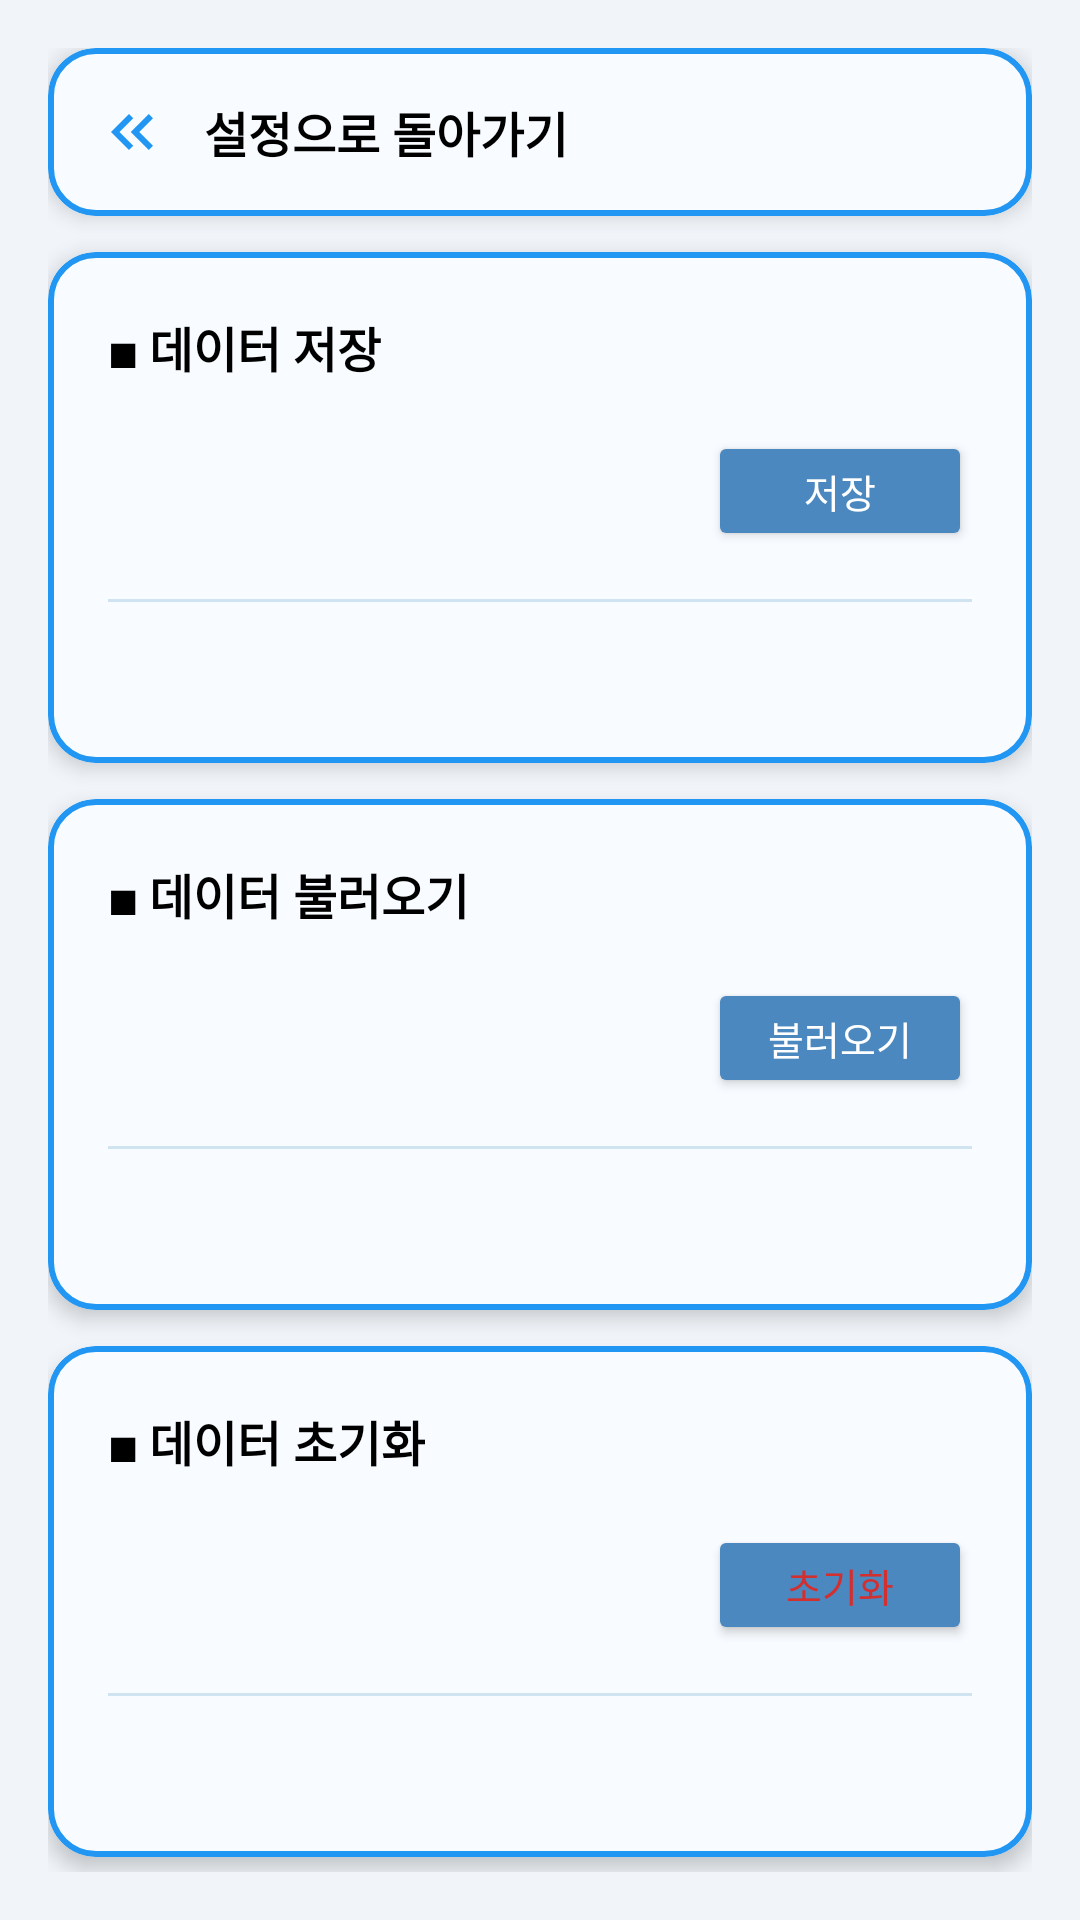

Where icons sit on this 1080px×1920px app screen, as [x1, y1, x2, y2]:
돌아가기 아이콘: [111, 114, 153, 150]
